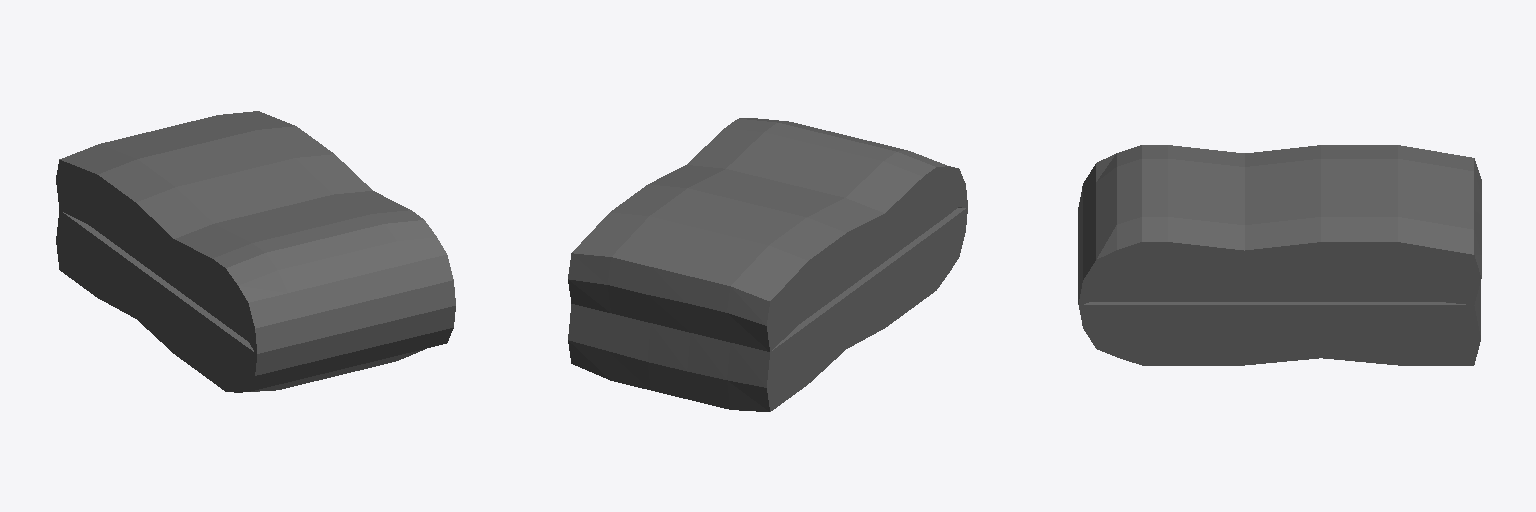
File: Towel.obj
The picture shows the model from 3 angles: view 1: azimuth 30°, elevation 25°; view 2: azimuth 150°, elevation 25°; view 3: azimuth 270°, elevation 25°; orthographic projection.
Parts seen in each view (by area): view 1: Towel; view 2: Towel; view 3: Towel.
Part boxes in pixels (x1,y1,x2,y2): Towel: (56,111,455,392); Towel: (568,118,967,411); Towel: (1078,145,1481,365).
Size of the model in its own units: 11.81 by 7.75 by 20.74.